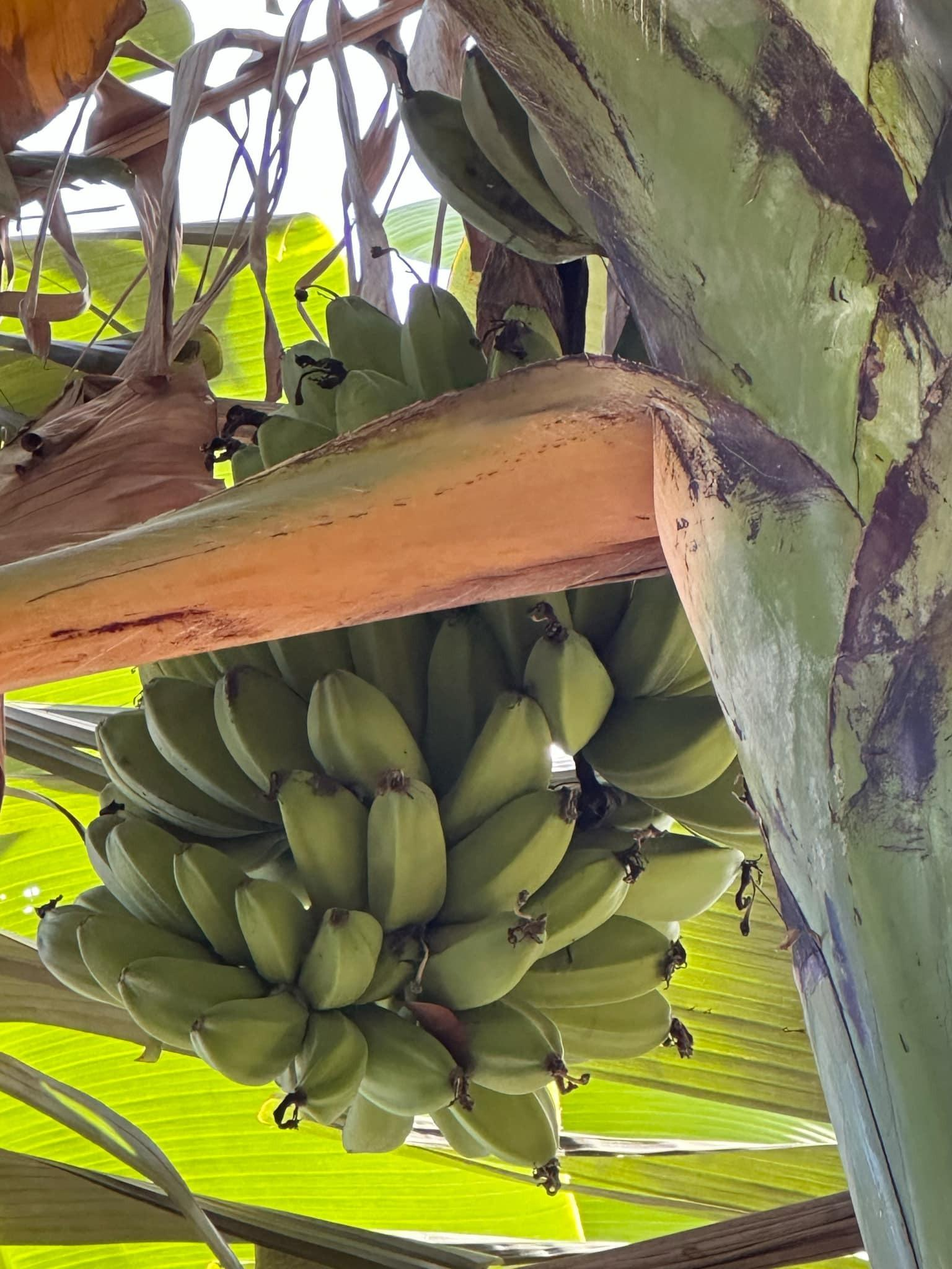underripe: (37, 816, 466, 1127), (270, 770, 746, 1010), (95, 606, 553, 845), (479, 575, 764, 856), (431, 916, 683, 1192), (232, 283, 560, 483), (401, 48, 604, 265)
